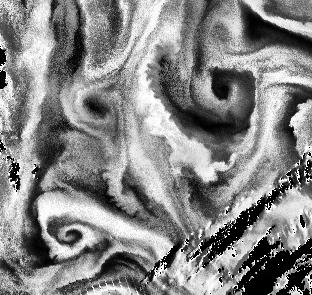AE: (196, 1, 250, 58)
CE: (34, 194, 93, 258), (59, 83, 123, 132), (193, 67, 243, 115)
